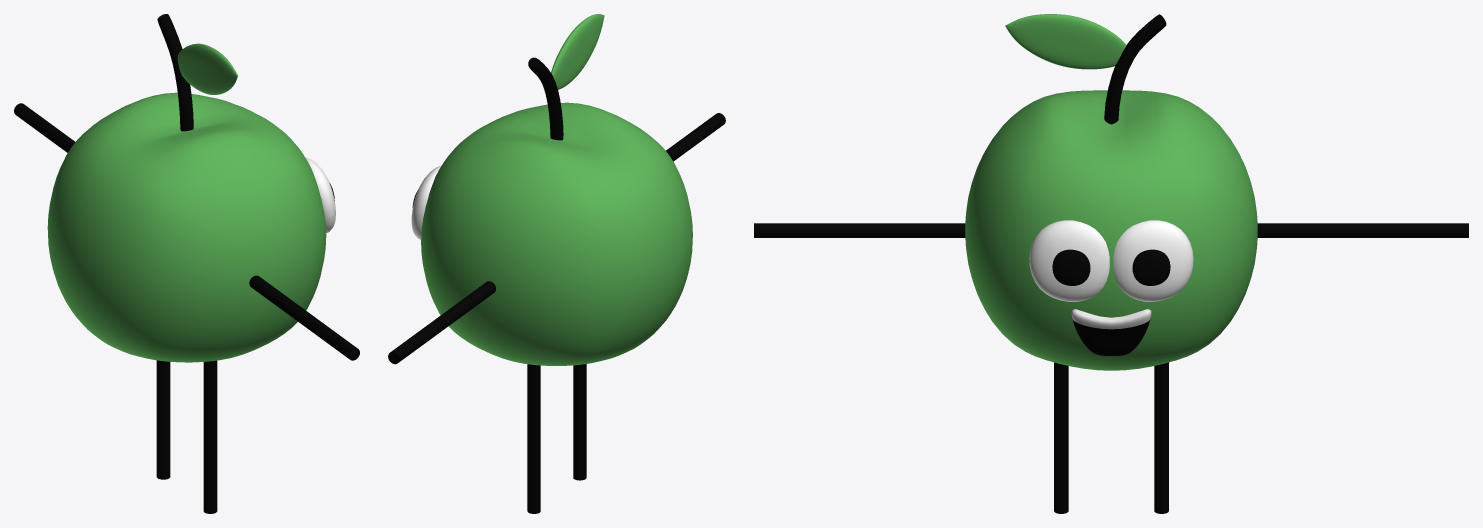
File: Apple_Mascot.fbx
3 renders of one model, left to right at view 1: azimuth 30°, elevation 25°; view 2: azimuth 150°, elevation 25°; view 3: azimuth 270°, elevation 25°, orthographic. The views are drawn at different scales.
Parts seen in each view (by area): view 1: Body, Legs, Arms, Cube.001, Stick, Eye left; view 2: Body, Legs, Arms, Cube.001, Stick, Eye right; view 3: Body, Arms, Cube.001, Legs, Eye left, Eye right, Cube, Stick, Iris left, Iris right.
Boxes of the visible parts, x1,y1,x2,y2 form: Body: (47, 92, 326, 362); Legs: (156, 360, 217, 513); Arms: (14, 103, 359, 360); Cube.001: (177, 43, 237, 94); Stick: (157, 14, 193, 131); Eye left: (305, 157, 335, 233); Body: (421, 102, 692, 365); Legs: (527, 364, 586, 513); Arms: (388, 113, 725, 364); Cube.001: (551, 14, 604, 89); Stick: (528, 57, 563, 140); Eye right: (411, 165, 441, 239); Body: (965, 90, 1257, 370); Arms: (754, 223, 1468, 237); Cube.001: (1005, 14, 1126, 69); Legs: (1054, 362, 1168, 513); Eye left: (1029, 220, 1109, 301); Eye right: (1113, 220, 1193, 301); Cube: (1071, 309, 1151, 355); Stick: (1104, 14, 1166, 124); Iris left: (1052, 249, 1090, 285); Iris right: (1132, 249, 1170, 285).
Size of the model in its own units: 82.59 by 150 by 196.
